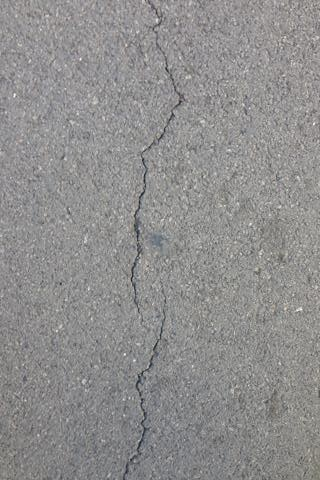A: (121, 1, 188, 480)
